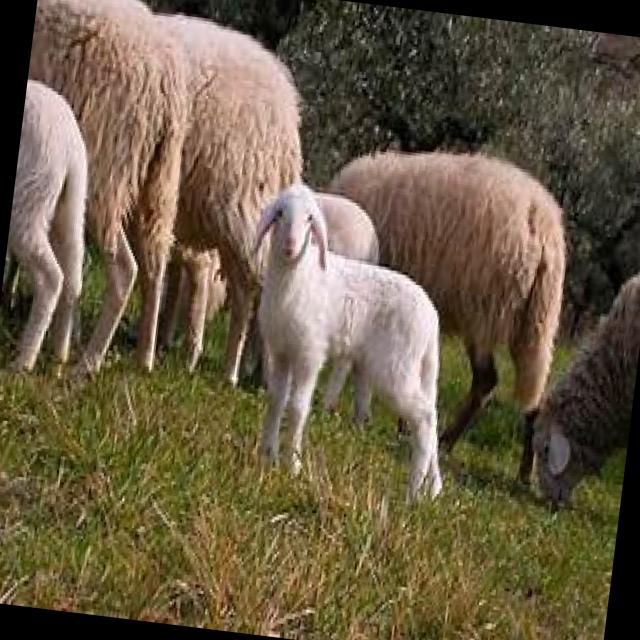animal: (222, 178, 474, 494)
